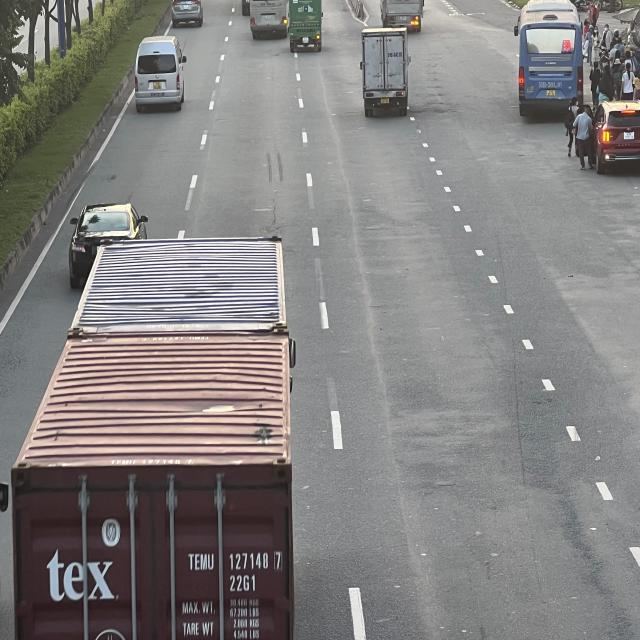car: (66, 204, 146, 287), (574, 100, 640, 170), (171, 0, 204, 26)
coach: (518, 0, 586, 113), (250, 0, 288, 38)
container: (3, 239, 299, 640)
truck: (359, 28, 409, 116), (286, 0, 322, 49)
van: (133, 36, 186, 113)
